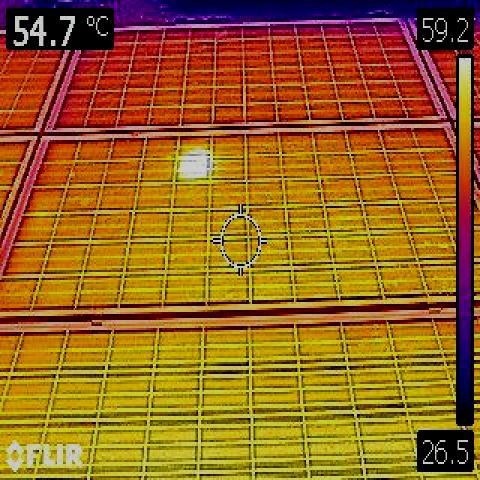fault: (178, 156, 206, 177)
